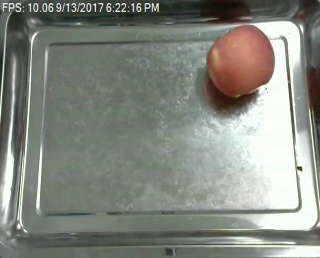Apple: (205, 24, 275, 101)
